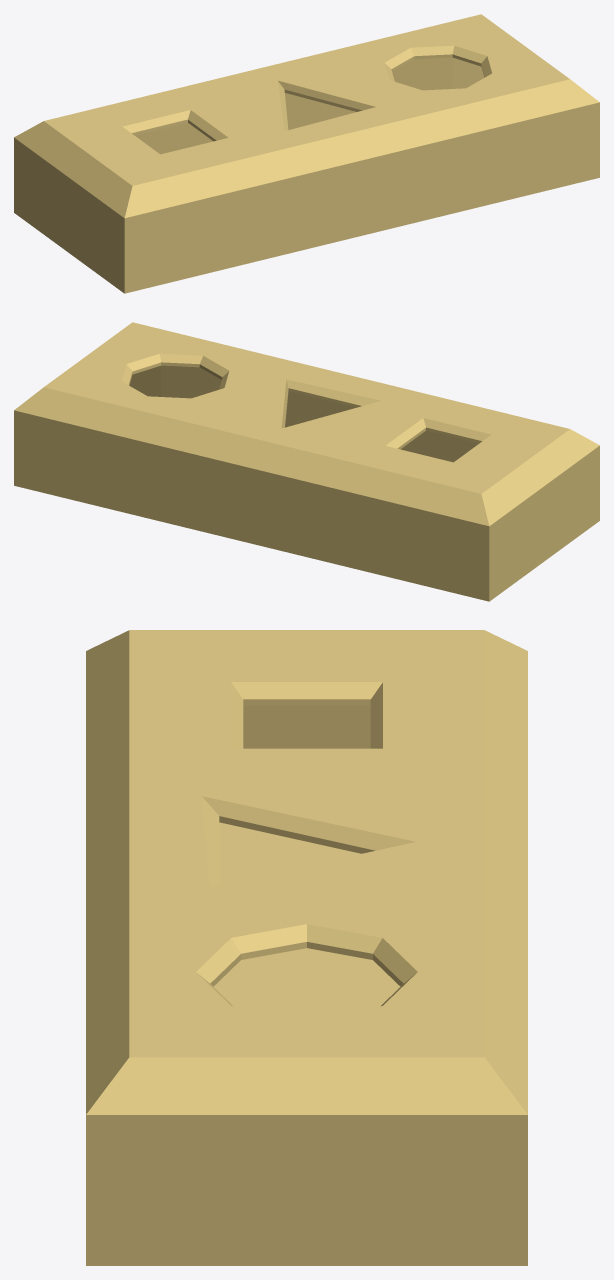
Rendered from shapebox.fbx.
3 renders of one model, top to bottom at view 1: azimuth 30°, elevation 25°; view 2: azimuth 150°, elevation 25°; view 3: azimuth 270°, elevation 25°, orthographic. The views are drawn at different scales.
Visible parts, largest first — view 1: Shape Box; view 2: Shape Box; view 3: Shape Box.
Part boxes in pixels (x1=…): Shape Box: x1=14, y1=14, x2=599, y2=293; Shape Box: x1=14, y1=322, x2=599, y2=601; Shape Box: x1=86, y1=630, x2=527, y2=1265.
Size of what is drawn, in the model's own units: 496 by 94.95 by 200.
